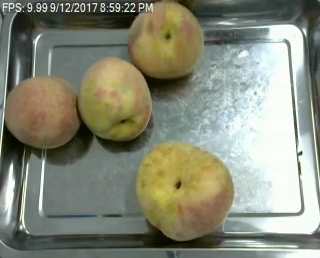Peach: (137, 140, 234, 243), (77, 55, 154, 139), (126, 0, 203, 78), (2, 75, 79, 148)
